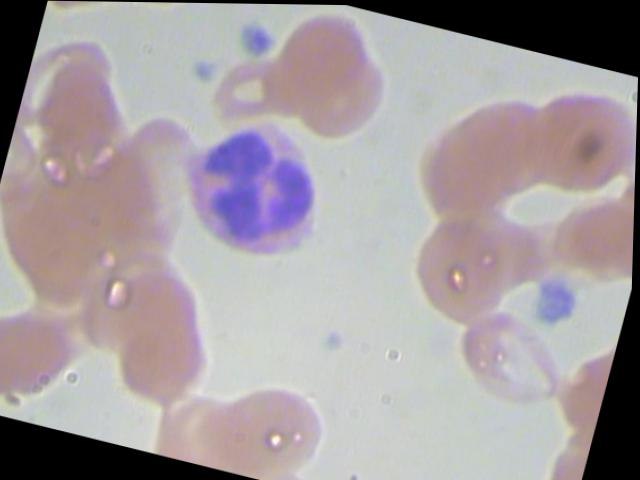Platelets: (524, 270, 593, 336), (230, 15, 284, 68), (179, 46, 230, 94)
Red Blood Cells: (501, 69, 638, 215), (445, 296, 581, 429), (398, 200, 529, 333), (209, 370, 344, 479), (269, 3, 384, 114)
White Blood Cells: (154, 93, 362, 294)
